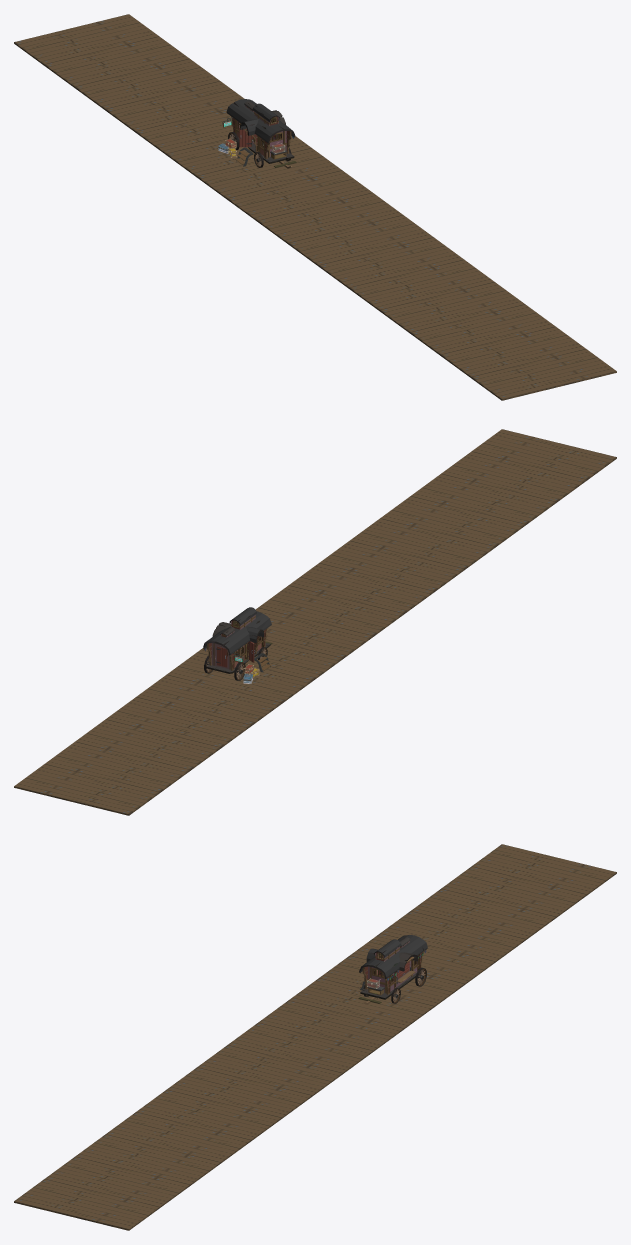
File: stall_fortunes.glb
3 renders of one model, top to bottom at view 1: azimuth 30°, elevation 25°; view 2: azimuth 150°, elevation 25°; view 3: azimuth 330°, elevation 25°, orthographic.
Parts seen in each view (by area): view 1: Boardwalk, SM_Veh_Wagon_01; view 2: Boardwalk, SM_Veh_Wagon_01; view 3: Boardwalk, SM_Veh_Wagon_01.
Part boxes in pixels (x1=…): Boardwalk: x1=14, y1=14, x2=616, y2=400; SM_Veh_Wagon_01: x1=222, y1=99, x2=296, y2=168; Boardwalk: x1=14, y1=429, x2=616, y2=815; SM_Veh_Wagon_01: x1=203, y1=607, x2=272, y2=680; Boardwalk: x1=14, y1=844, x2=616, y2=1230; SM_Veh_Wagon_01: x1=358, y1=935, x2=427, y2=1004.
Size of the model in its own units: 10.76 by 4.58 by 79.04.
Materials: 7 (6 with a texture image).
